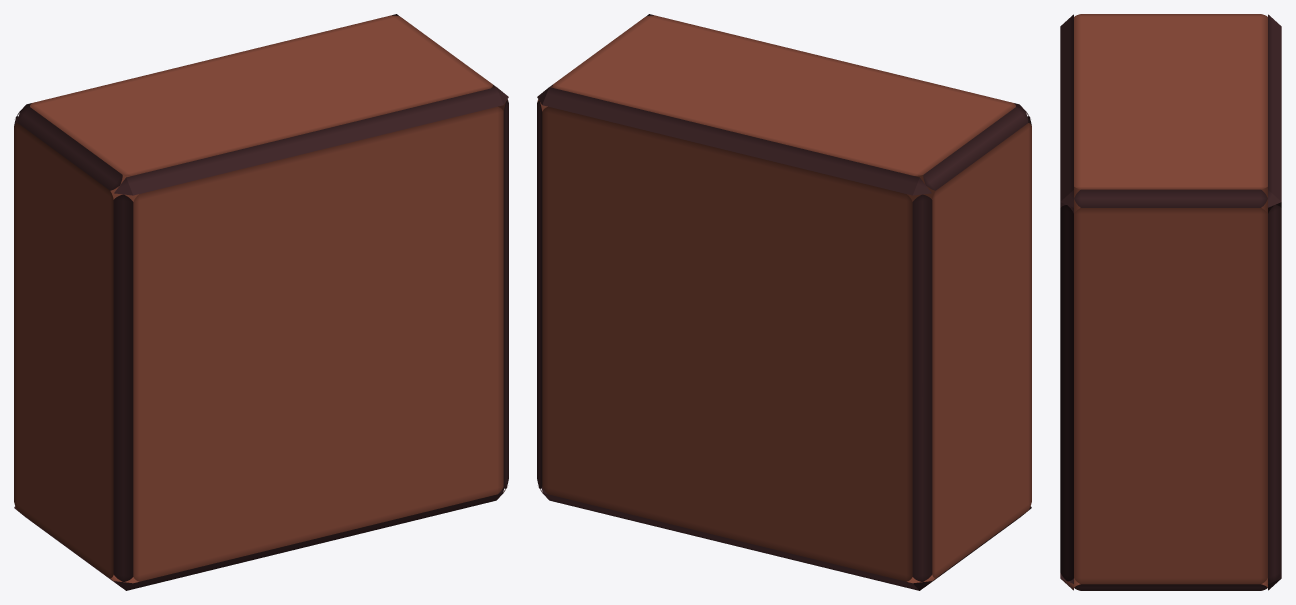
The picture shows the model from 3 angles, left to right: view 1: azimuth 30°, elevation 25°; view 2: azimuth 150°, elevation 25°; view 3: azimuth 270°, elevation 25°; orthographic projection. The views are drawn at different scales.
Parts seen in each view (by area): view 1: cuboid; view 2: cuboid; view 3: cuboid.
Boxes of the visible parts, x1,y1,x2,y2 form: cuboid: [14, 14, 508, 590]; cuboid: [537, 14, 1031, 590]; cuboid: [1060, 14, 1281, 590].
Size of the model in its own units: 200 by 200 by 100.
1 material, 1 textured.
